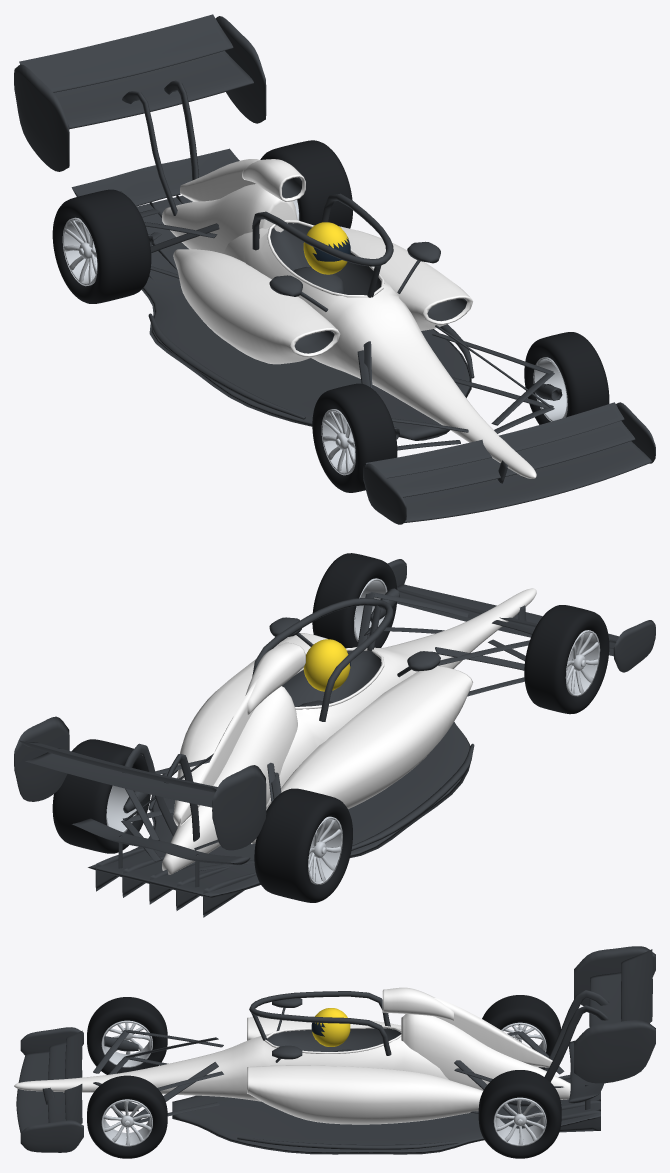
3 views of the same model, one above another, from view 1: azimuth 30°, elevation 25°; view 2: azimuth 150°, elevation 25°; view 3: azimuth 270°, elevation 25° (orthographic). The views are drawn at different scales.
Visible parts, largest first — view 1: carbon, body, tyre (×4), rim (×3), helmet; view 2: carbon, body, tyre (×4), rim (×4), helmet; view 3: carbon, body, tyre (×4), rim (×4), helmet.
Part boxes in pixels (<box>): carbon: <box>14,14,655,524</box>; body: <box>162,159,536,478</box>; tyre (×4): <box>52,140,609,492</box>; rim (×3): <box>62,217,567,475</box>; helmet: <box>303,222,348,274</box>; carbon: <box>14,559,655,917</box>; body: <box>162,588,536,874</box>; tyre (×4): <box>52,553,609,902</box>; rim (×4): <box>106,578,600,884</box>; helmet: <box>303,639,350,691</box>; carbon: <box>16,946,655,1154</box>; body: <box>14,987,570,1124</box>; tyre (×4): <box>87,995,561,1158</box>; rim (×4): <box>101,1020,546,1146</box>; helmet: <box>312,1008,350,1046</box>.
Bounding box in the file's own units: 1.99 × 1.29 × 5.72.
